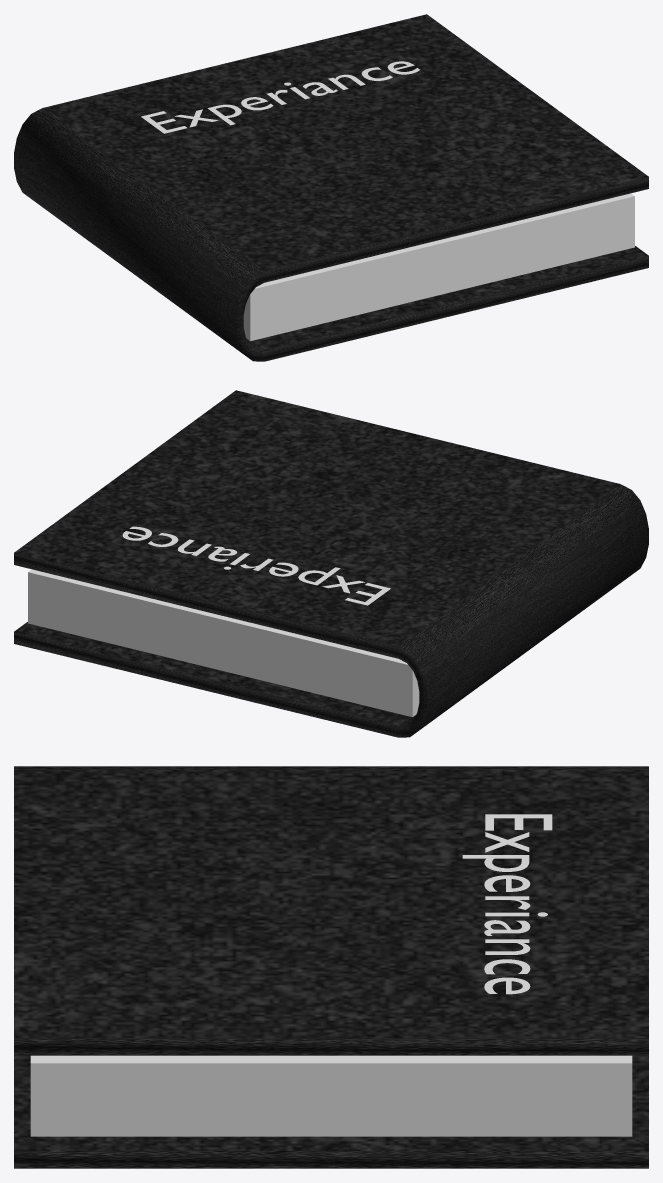
The model's file is book.glb.
3 renders of one model, top to bottom at view 1: azimuth 30°, elevation 25°; view 2: azimuth 150°, elevation 25°; view 3: azimuth 270°, elevation 25°, orthographic. The views are drawn at different scales.
Parts seen in each view (by area): view 1: Cube.002, Cube, Text; view 2: Cube.002, Cube, Text; view 3: Cube.002, Cube, Text.
Boxes of the visible parts, x1=… form: Cube.002: x1=14, y1=14, x2=648, y2=361; Cube: x1=243, y1=193, x2=634, y2=341; Text: x1=141, y1=61, x2=419, y2=133; Cube.002: x1=14, y1=390, x2=648, y2=737; Cube: x1=28, y1=569, x2=419, y2=717; Text: x1=122, y1=526, x2=390, y2=605; Cube.002: x1=14, y1=766, x2=648, y2=1168; Cube: x1=30, y1=1055, x2=632, y2=1136; Text: x1=462, y1=814, x2=552, y2=994.
Bounding box in the file's own units: 2.15 × 0.4551 × 2.
Materials: 1 (1 with a texture image).
